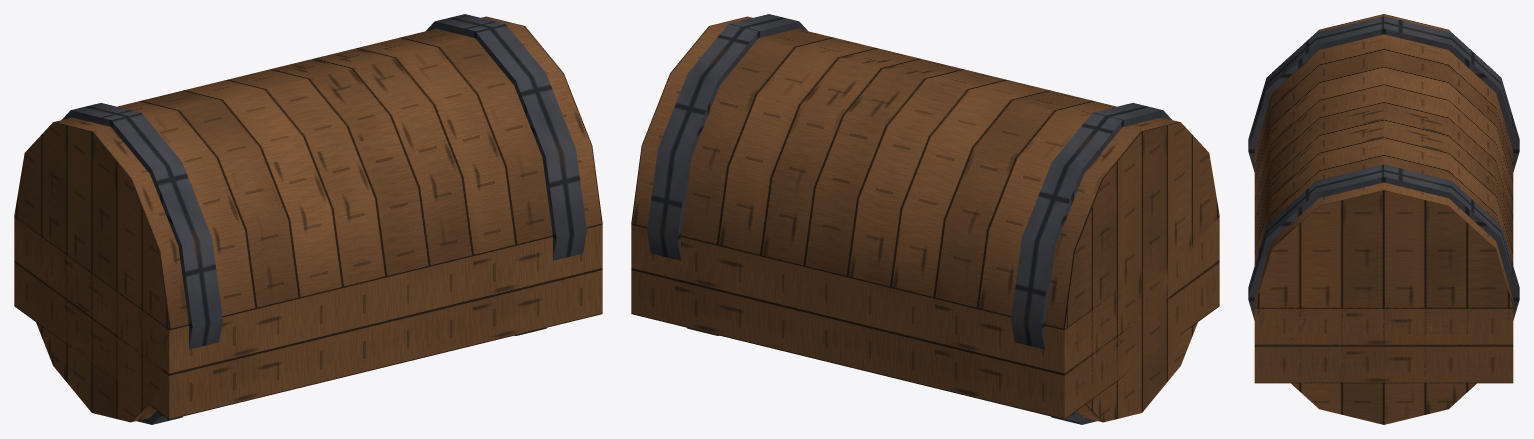
Rendered from chest_lid.glb.
3 views of the same model, side by side, from view 1: azimuth 30°, elevation 25°; view 2: azimuth 150°, elevation 25°; view 3: azimuth 270°, elevation 25° (orthographic). The views are drawn at different scales.
Parts seen in each view (by area): view 1: chest_lid; view 2: chest_lid; view 3: chest_lid.
Part boxes in pixels (x1,y1,x2,y2): chest_lid: (14,14,602,424); chest_lid: (631,14,1219,424); chest_lid: (1248,14,1519,424).
Size of the model in its own units: 1 by 0.65 by 0.65.
Materials: 2 (2 with a texture image).
